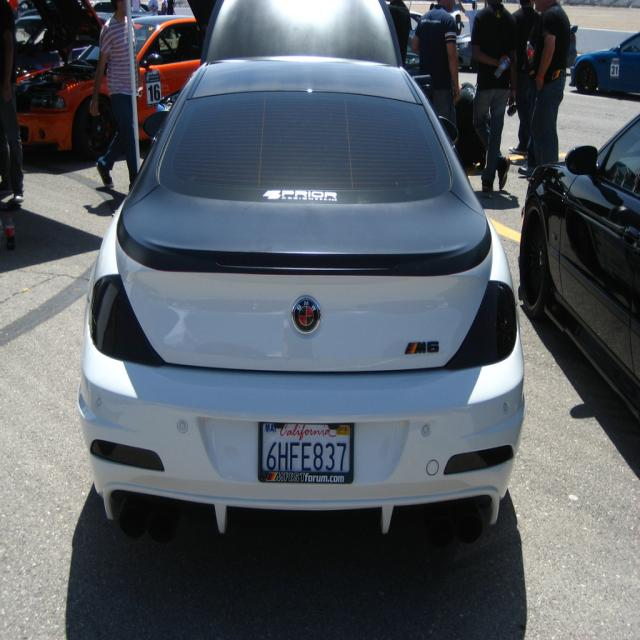car: (76, 0, 524, 552)
